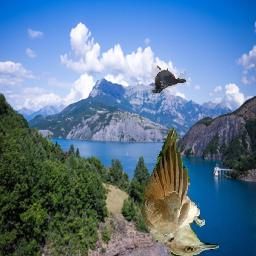Crow: (152, 65, 187, 94)
Cuckoo: (141, 126, 220, 256)
